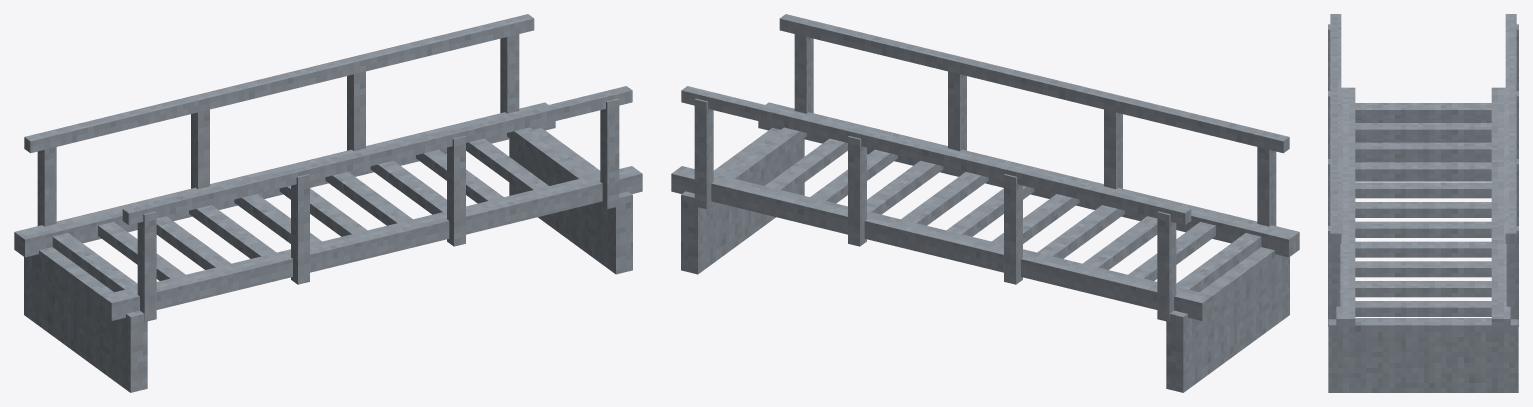
Rendered from level_blockout_dam_service_catwalk.glb.
3 views of the same model, side by side, from view 1: azimuth 30°, elevation 25°; view 2: azimuth 150°, elevation 25°; view 3: azimuth 270°, elevation 25° (orthographic). The views are drawn at different scales.
Parts seen in each view (by area): view 1: level_blockout_dam_service_catwalk; view 2: level_blockout_dam_service_catwalk; view 3: level_blockout_dam_service_catwalk.
Boxes of the visible parts, left/top/right/bottom form: level_blockout_dam_service_catwalk: left=14, top=14, right=642, bottom=392; level_blockout_dam_service_catwalk: left=671, top=14, right=1299, bottom=392; level_blockout_dam_service_catwalk: left=1328, top=14, right=1518, bottom=392.
Size of the model in its own units: 3.74 by 1.21 by 1.3.
Materials: 1 (1 with a texture image).
